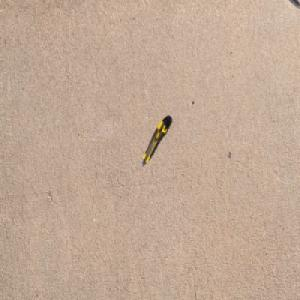Cutter: (141, 116, 170, 167)
